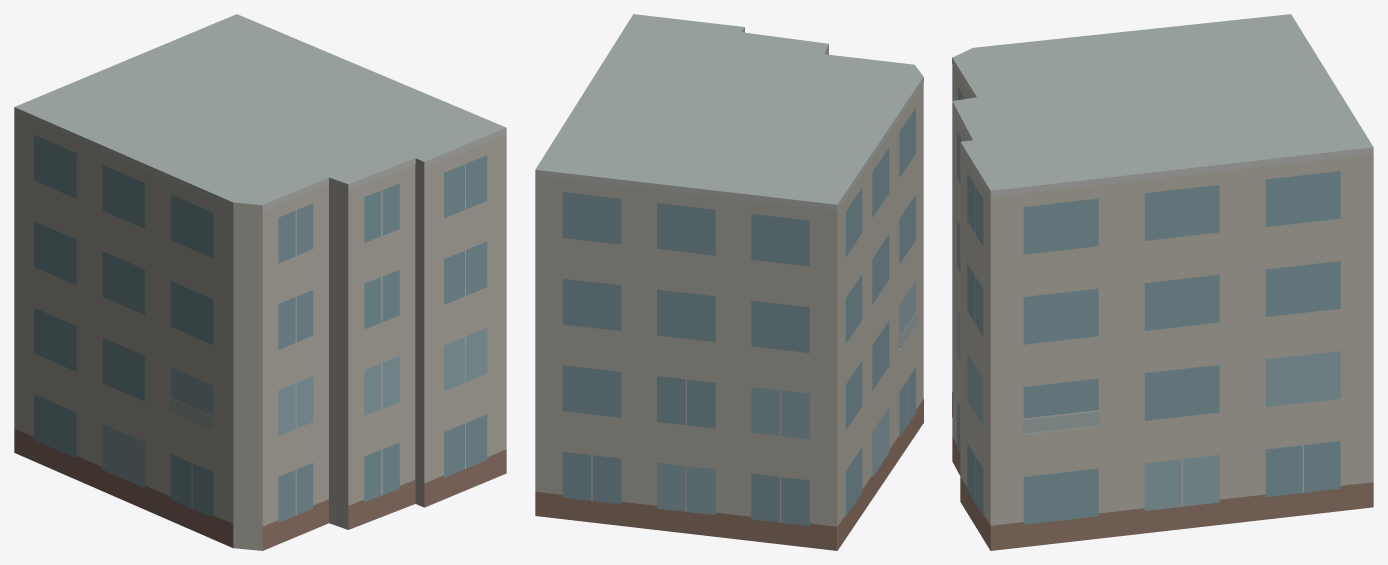
Rendered from survey-upis-32940864.glb.
The picture shows the model from 3 angles, left to right: view 1: azimuth 30°, elevation 25°; view 2: azimuth 150°, elevation 25°; view 3: azimuth 270°, elevation 25°; orthographic projection. The views are drawn at different scales.
Parts seen in each view (by area): view 1: survey-upis-32940864.tmp; view 2: survey-upis-32940864.tmp; view 3: survey-upis-32940864.tmp.
Boxes of the visible parts, x1,y1,x2,y2 form: survey-upis-32940864.tmp: (14, 14, 506, 550); survey-upis-32940864.tmp: (535, 14, 923, 550); survey-upis-32940864.tmp: (952, 14, 1373, 550).
Size of the model in its own units: 14.18 by 13.45 by 14.28.
